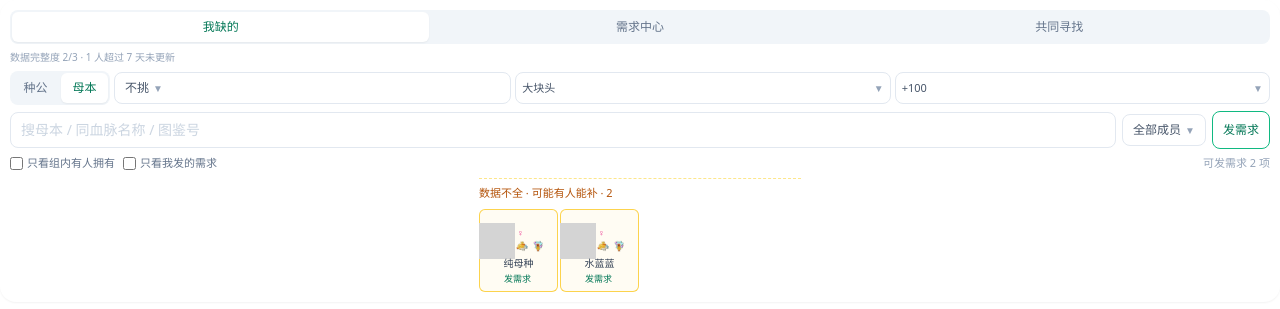
MotherGroupResources 三视图 › 种公页：自己能产也仍然可以发需求（2026-10-29 取消限制）
Step 1. Click the button with test id "missing-kind-stud" → (36, 88), box [12,73,59,103]
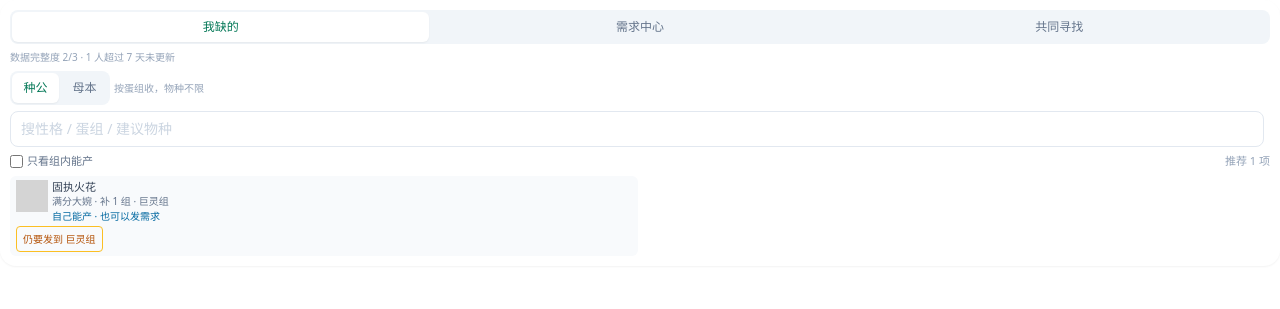
Expected: the text with test id "stud-supply-status" shows "自己能产", [52,209,160,223]
Expected: the button with test id "stud-publish-2" is enabled, [16,226,103,252]
